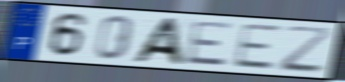0: (93, 14, 136, 62)
6: (46, 11, 89, 58)
A: (128, 17, 187, 67)
E: (182, 19, 237, 68), (230, 22, 284, 71)
Z: (279, 25, 334, 75)
